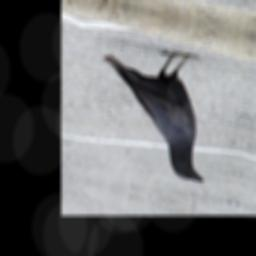Crow: (90, 34, 221, 184)
